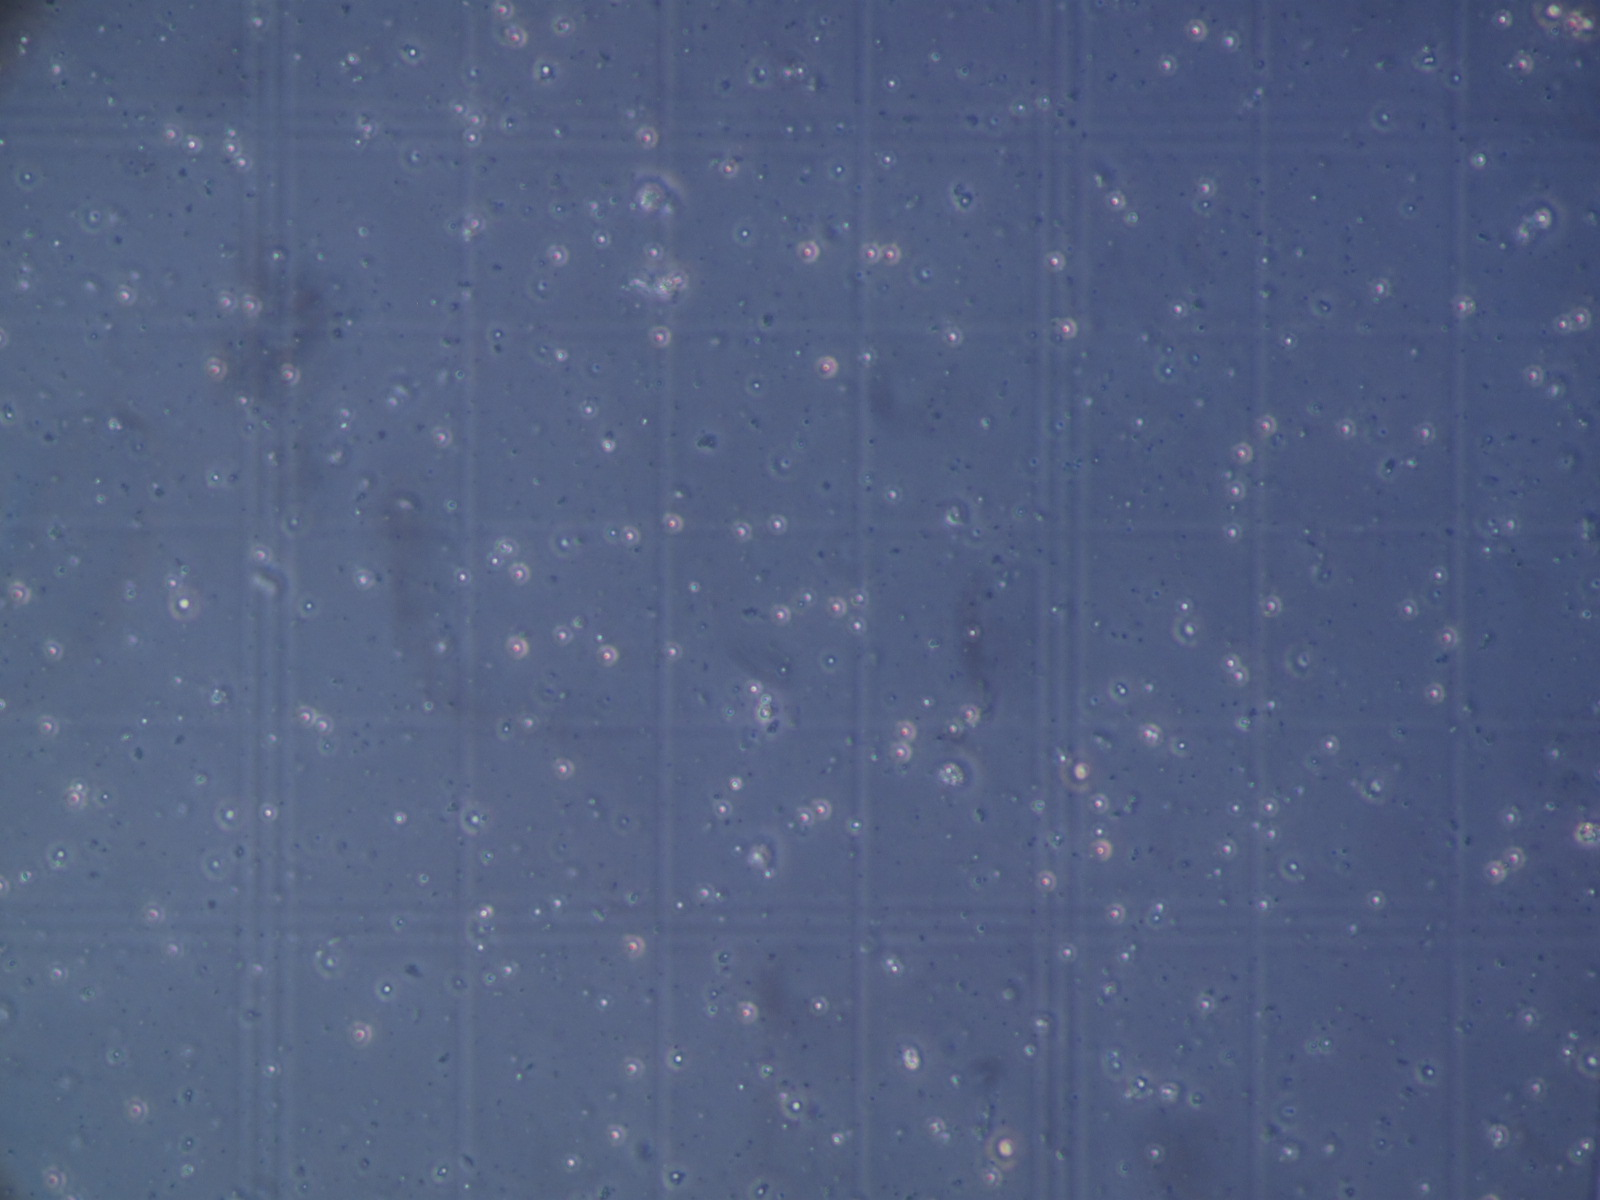virus: (200, 355, 228, 382), (111, 284, 139, 308), (214, 289, 239, 313), (239, 294, 263, 318), (180, 134, 204, 155), (231, 153, 254, 171), (220, 137, 242, 158)
